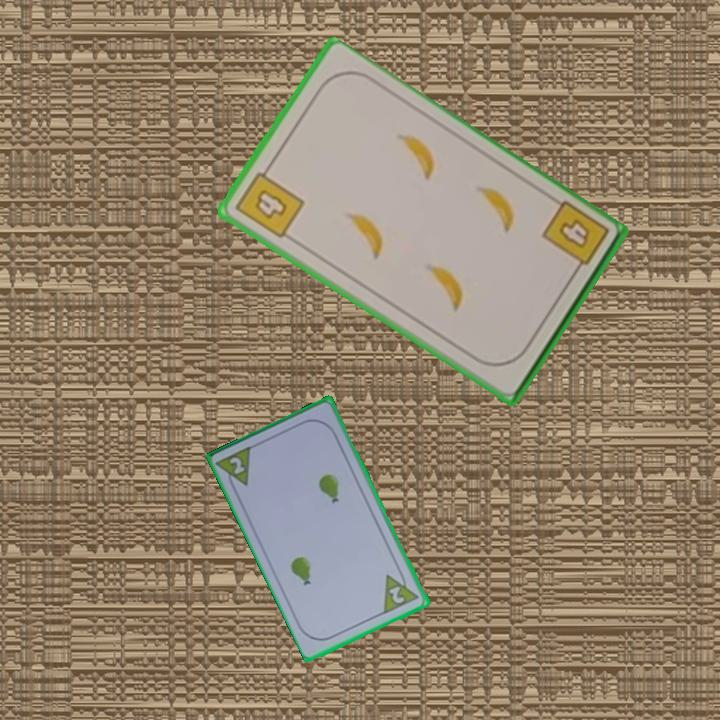2p: (380, 565, 423, 617), (214, 442, 256, 495)
4b: (231, 161, 308, 242), (538, 197, 612, 279)
